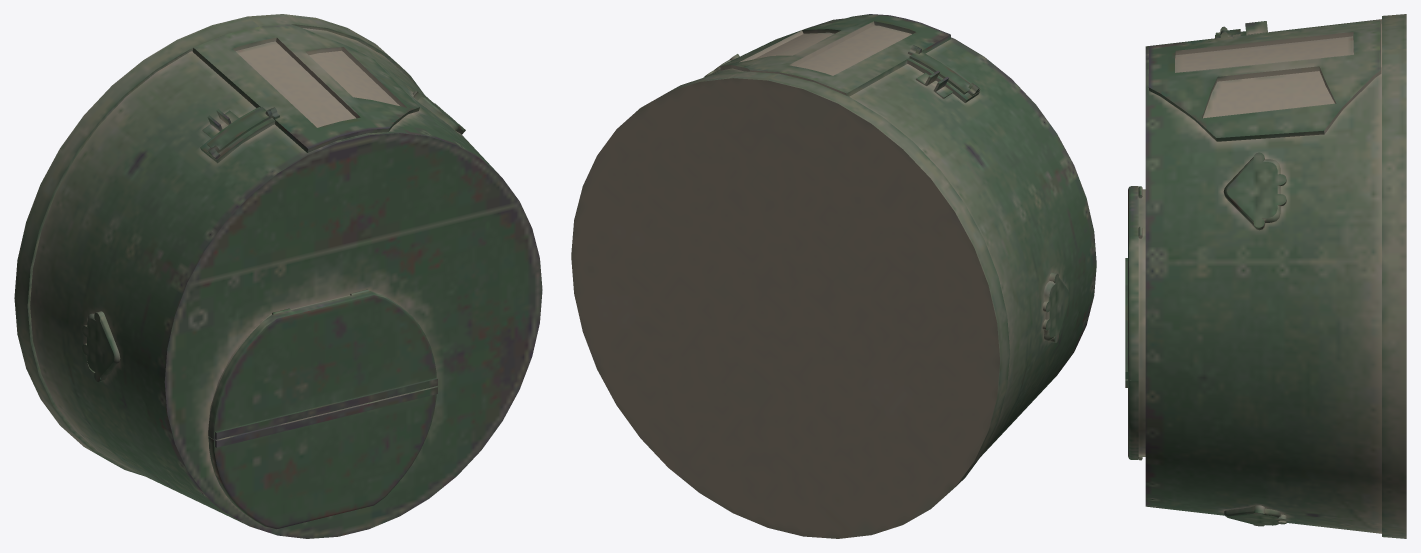
The model's file is Turret_01.glb.
The picture shows the model from 3 angles, left to right: view 1: azimuth 30°, elevation 25°; view 2: azimuth 150°, elevation 25°; view 3: azimuth 270°, elevation 25°; orthographic projection. The views are drawn at different scales.
Visible parts, largest first — view 1: set_0_group_0; view 2: set_0_group_0; view 3: set_0_group_0.
Boxes of the visible parts, <box> form: set_0_group_0: <box>14,14,542,538</box>; set_0_group_0: <box>571,14,1096,538</box>; set_0_group_0: <box>1125,14,1406,538</box>.
Size of the model in its own units: 1.25 by 1.25 by 0.6709.
Materials: 1 (1 with a texture image).
